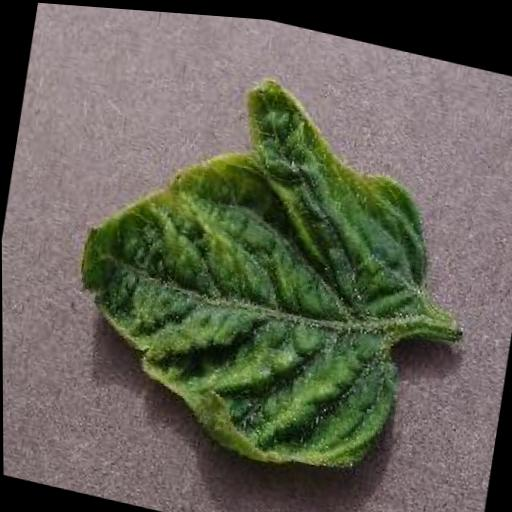Yellow Leaf Curl Virus: (49, 35, 457, 491)
